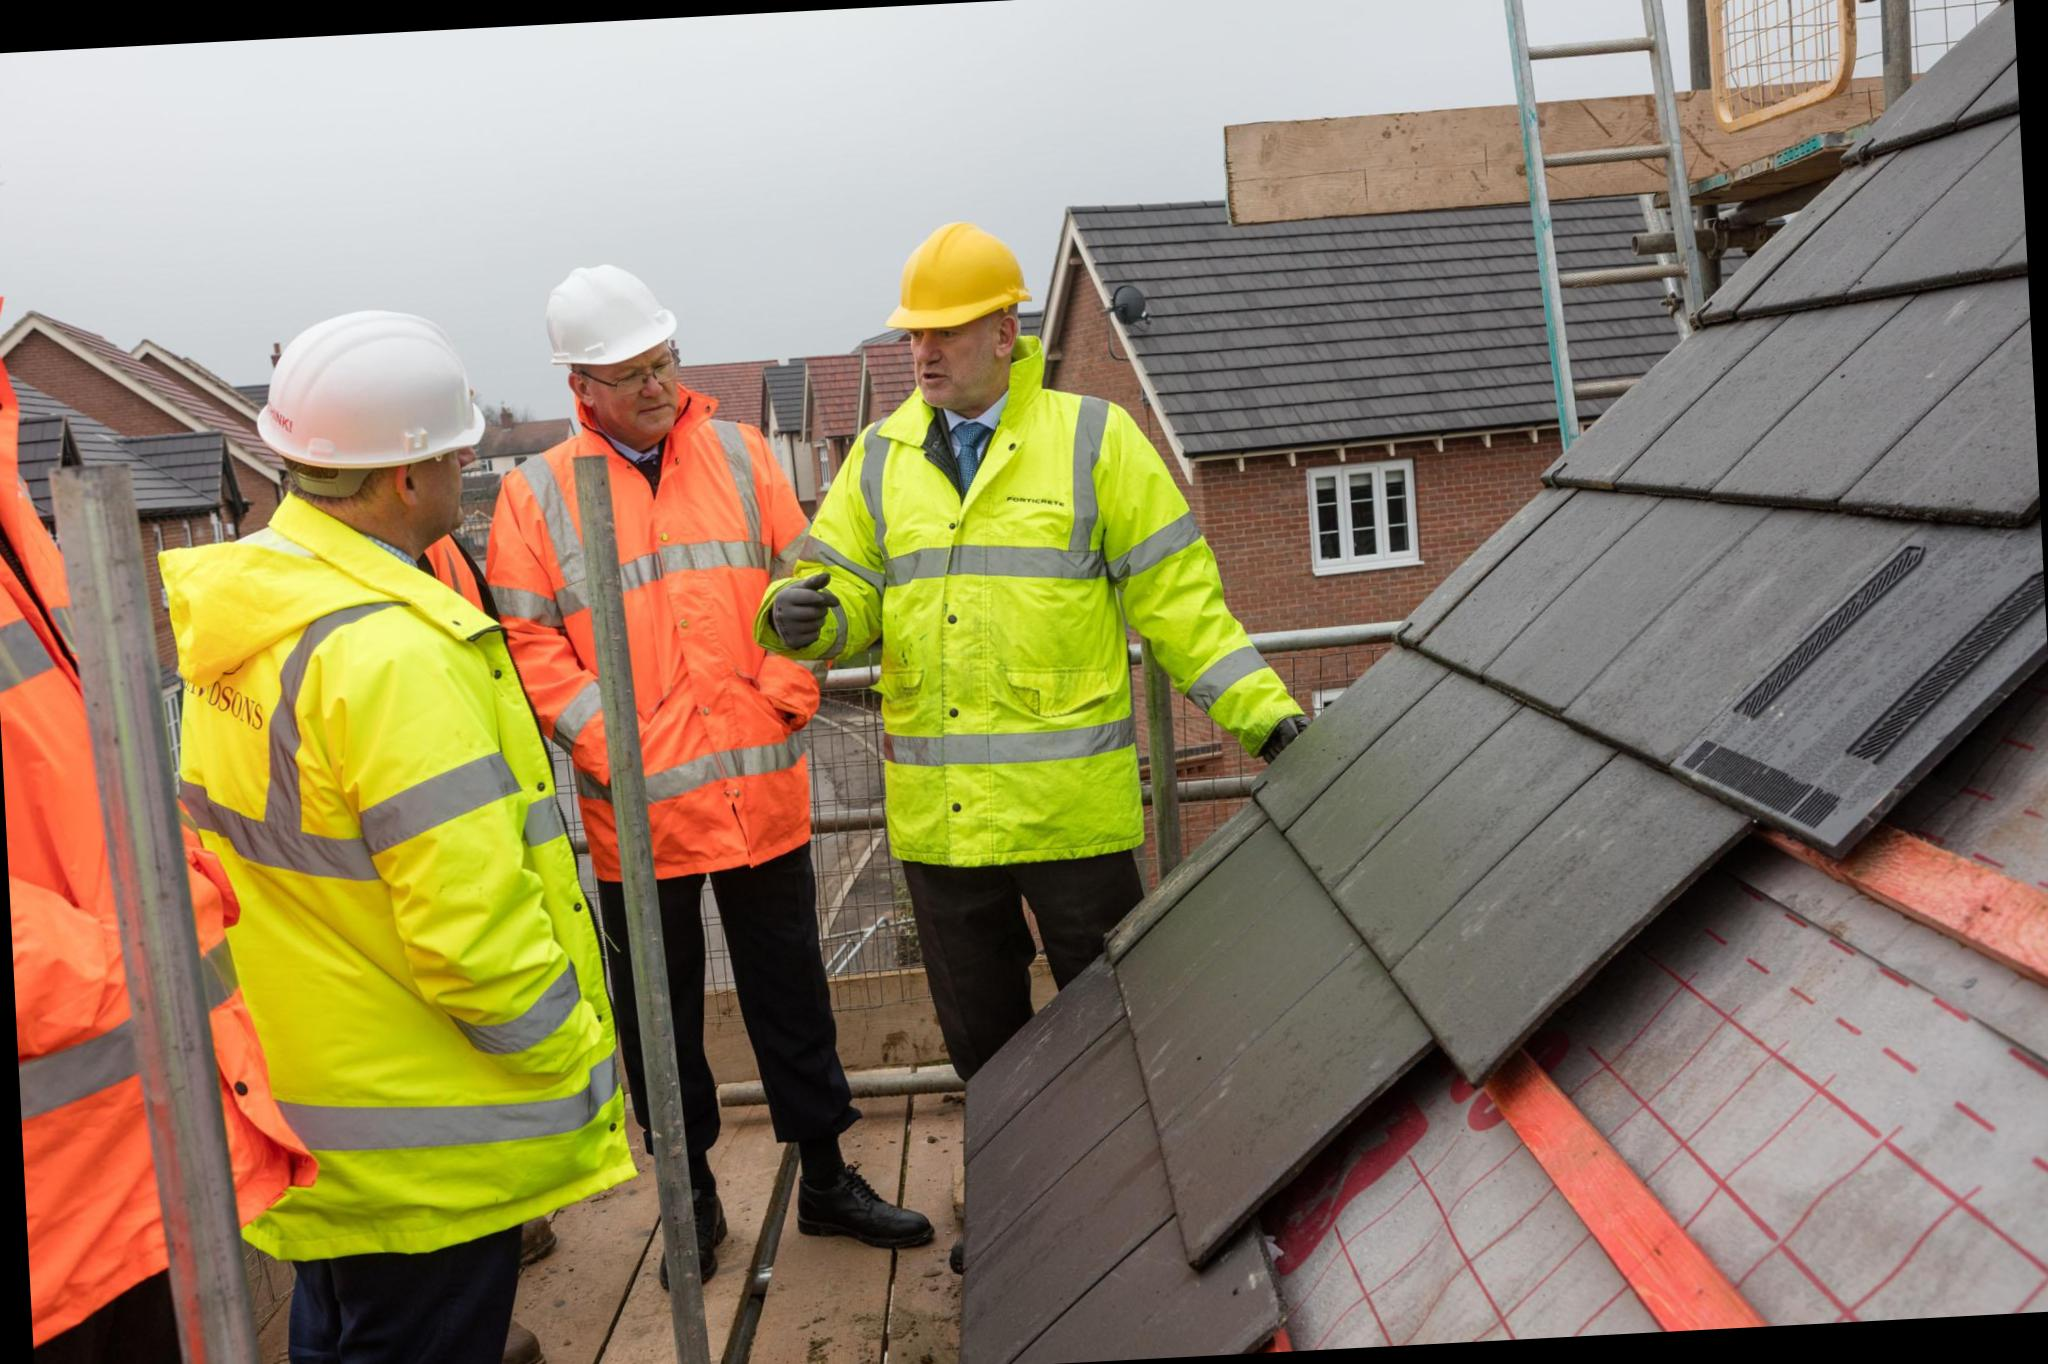Vest: (167, 543, 598, 1274), (834, 387, 1176, 883), (496, 434, 811, 889)
